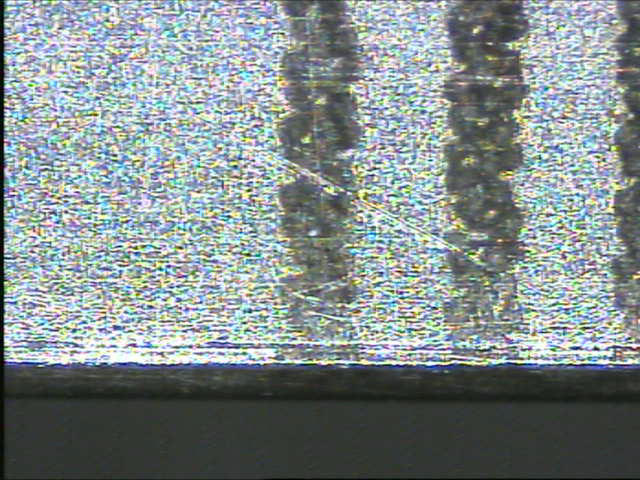line: (272, 1, 366, 347), (440, 1, 533, 348)
